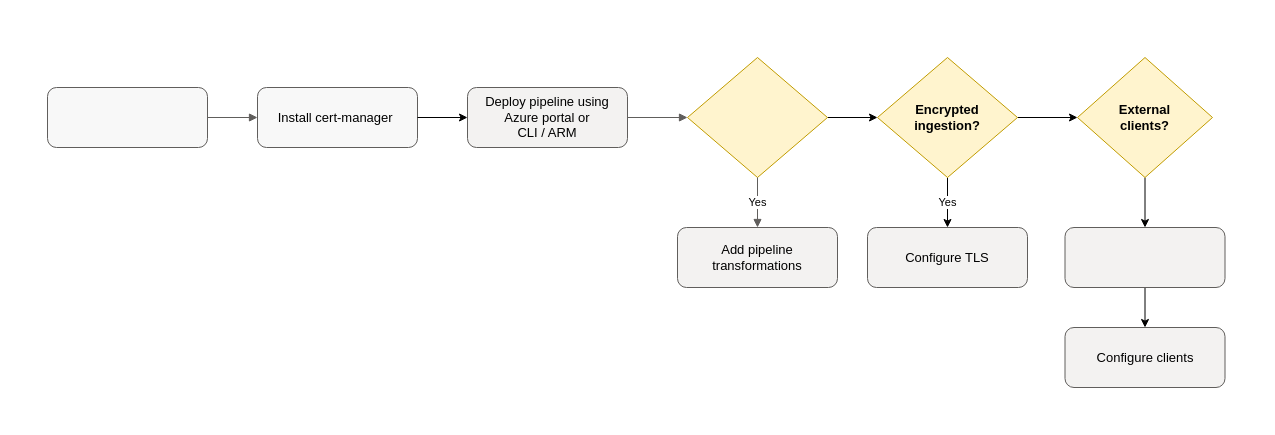
Some shapes in this 1275 by 435 pixel diagram are drawn without their labels. The shapes that lost their labels are listed below. From the top down, each one's centre as x and y in pixels, then its label:
[127,117]: Verify prerequisites
[757,117]: Filter or modify data?
[1144,257]: Configure Kubernetes gateway
